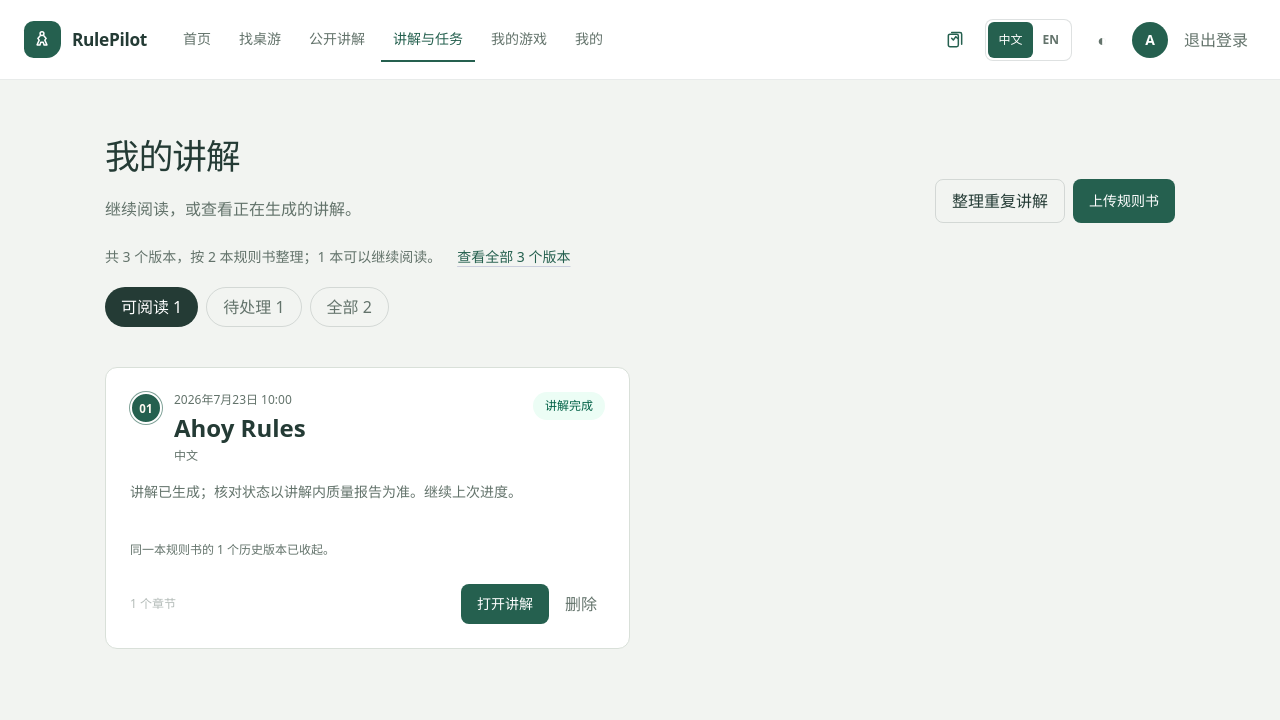
Test: LessonsView › shows one best continuation per uploaded rulebook until a player asks for history
Click the button "待处理 1" at (254,307), box [206,287,302,327]
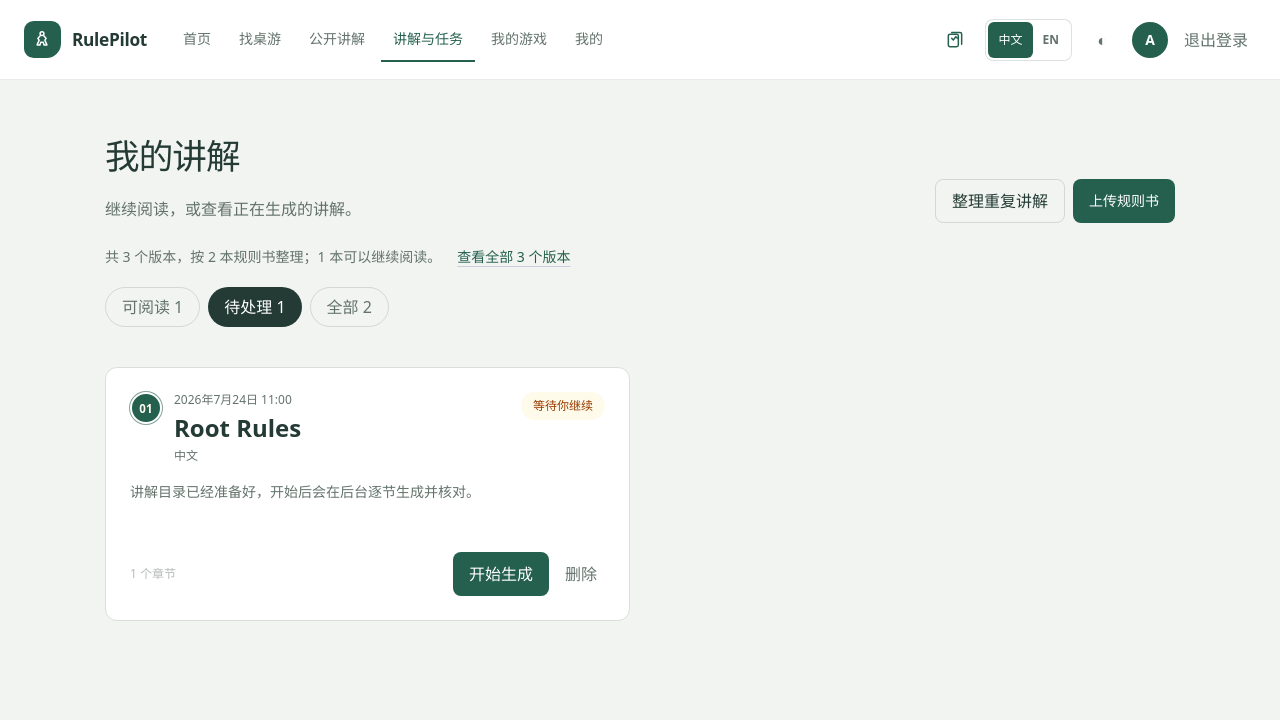
Click the button "查看全部 3 个版本" at (514,257), box [457,247,570,267]
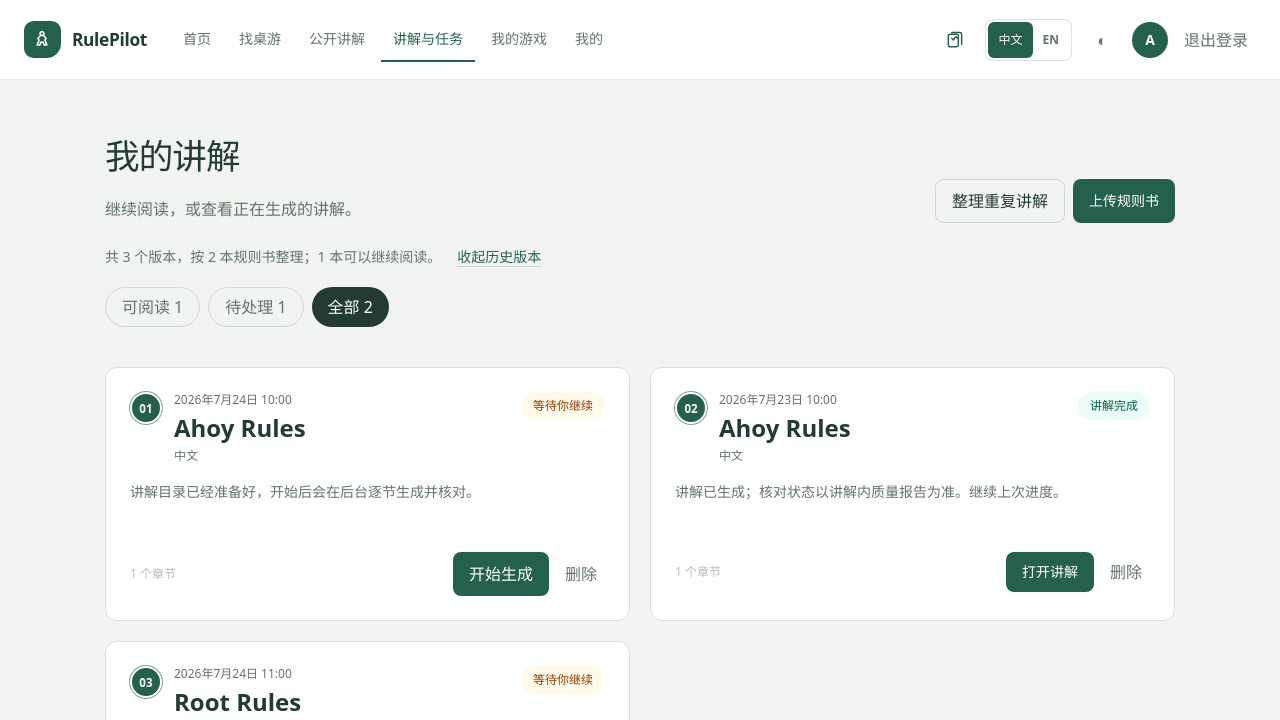
Expected: the text "收起历史版本" is shown, [457,247,541,267]
